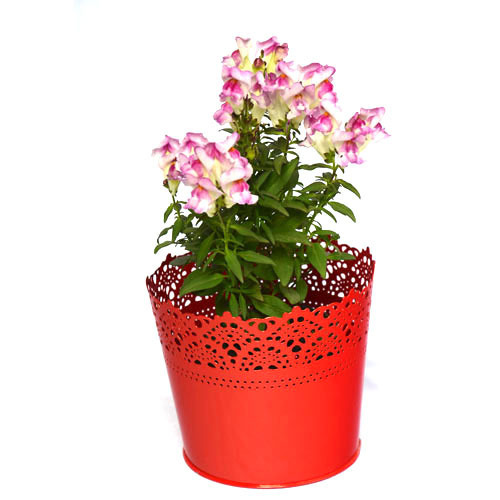tire: (146, 242, 375, 486)
